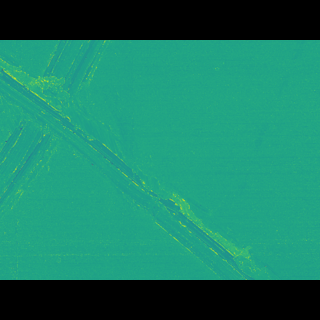Loch: (0, 77, 286, 251), (0, 69, 112, 205)
